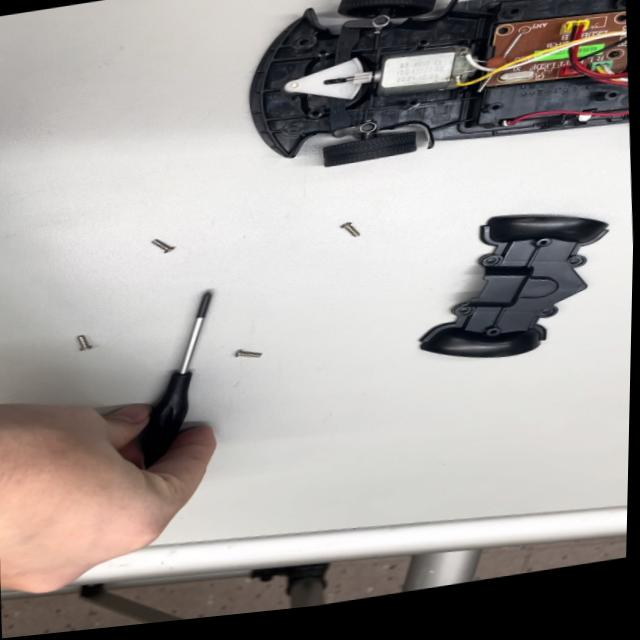Chassis: (235, 0, 633, 190)
motor: (344, 30, 491, 108)
motor_cover: (403, 196, 612, 375)
screw: (225, 340, 272, 374), (144, 229, 188, 261), (66, 325, 106, 359), (332, 215, 372, 247)
screw_driver: (105, 287, 229, 486)
wheel: (310, 122, 437, 182), (326, 0, 457, 35)
